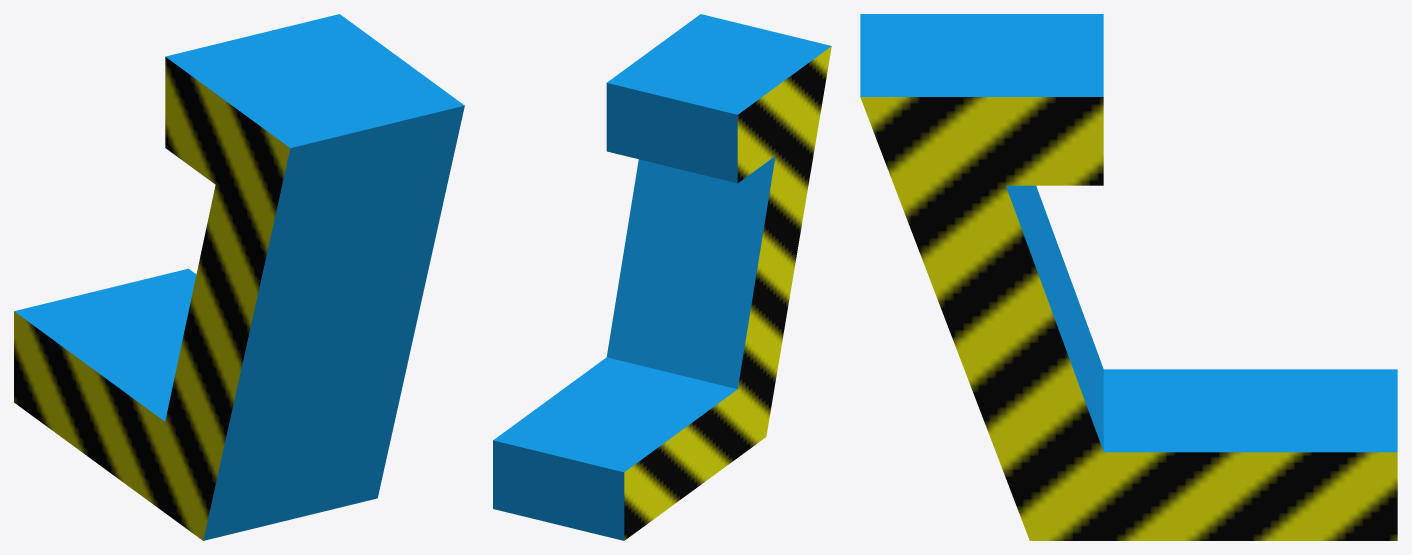
The model's file is huston2.obj.
3 views of the same model, side by side, from view 1: azimuth 30°, elevation 25°; view 2: azimuth 150°, elevation 25°; view 3: azimuth 270°, elevation 25° (orthographic). The views are drawn at different scales.
Visible parts, largest first — view 1: ColobotMesh_1_ColobotMesh_; view 2: ColobotMesh_1_ColobotMesh_; view 3: ColobotMesh_1_ColobotMesh_.
Part boxes in pixels (box(x1,y1,x2,y2)): ColobotMesh_1_ColobotMesh_: box(14, 14, 464, 540); ColobotMesh_1_ColobotMesh_: box(493, 14, 831, 540); ColobotMesh_1_ColobotMesh_: box(860, 14, 1397, 540).
Size of the model in its own units: 2 by 5 by 5.48.
